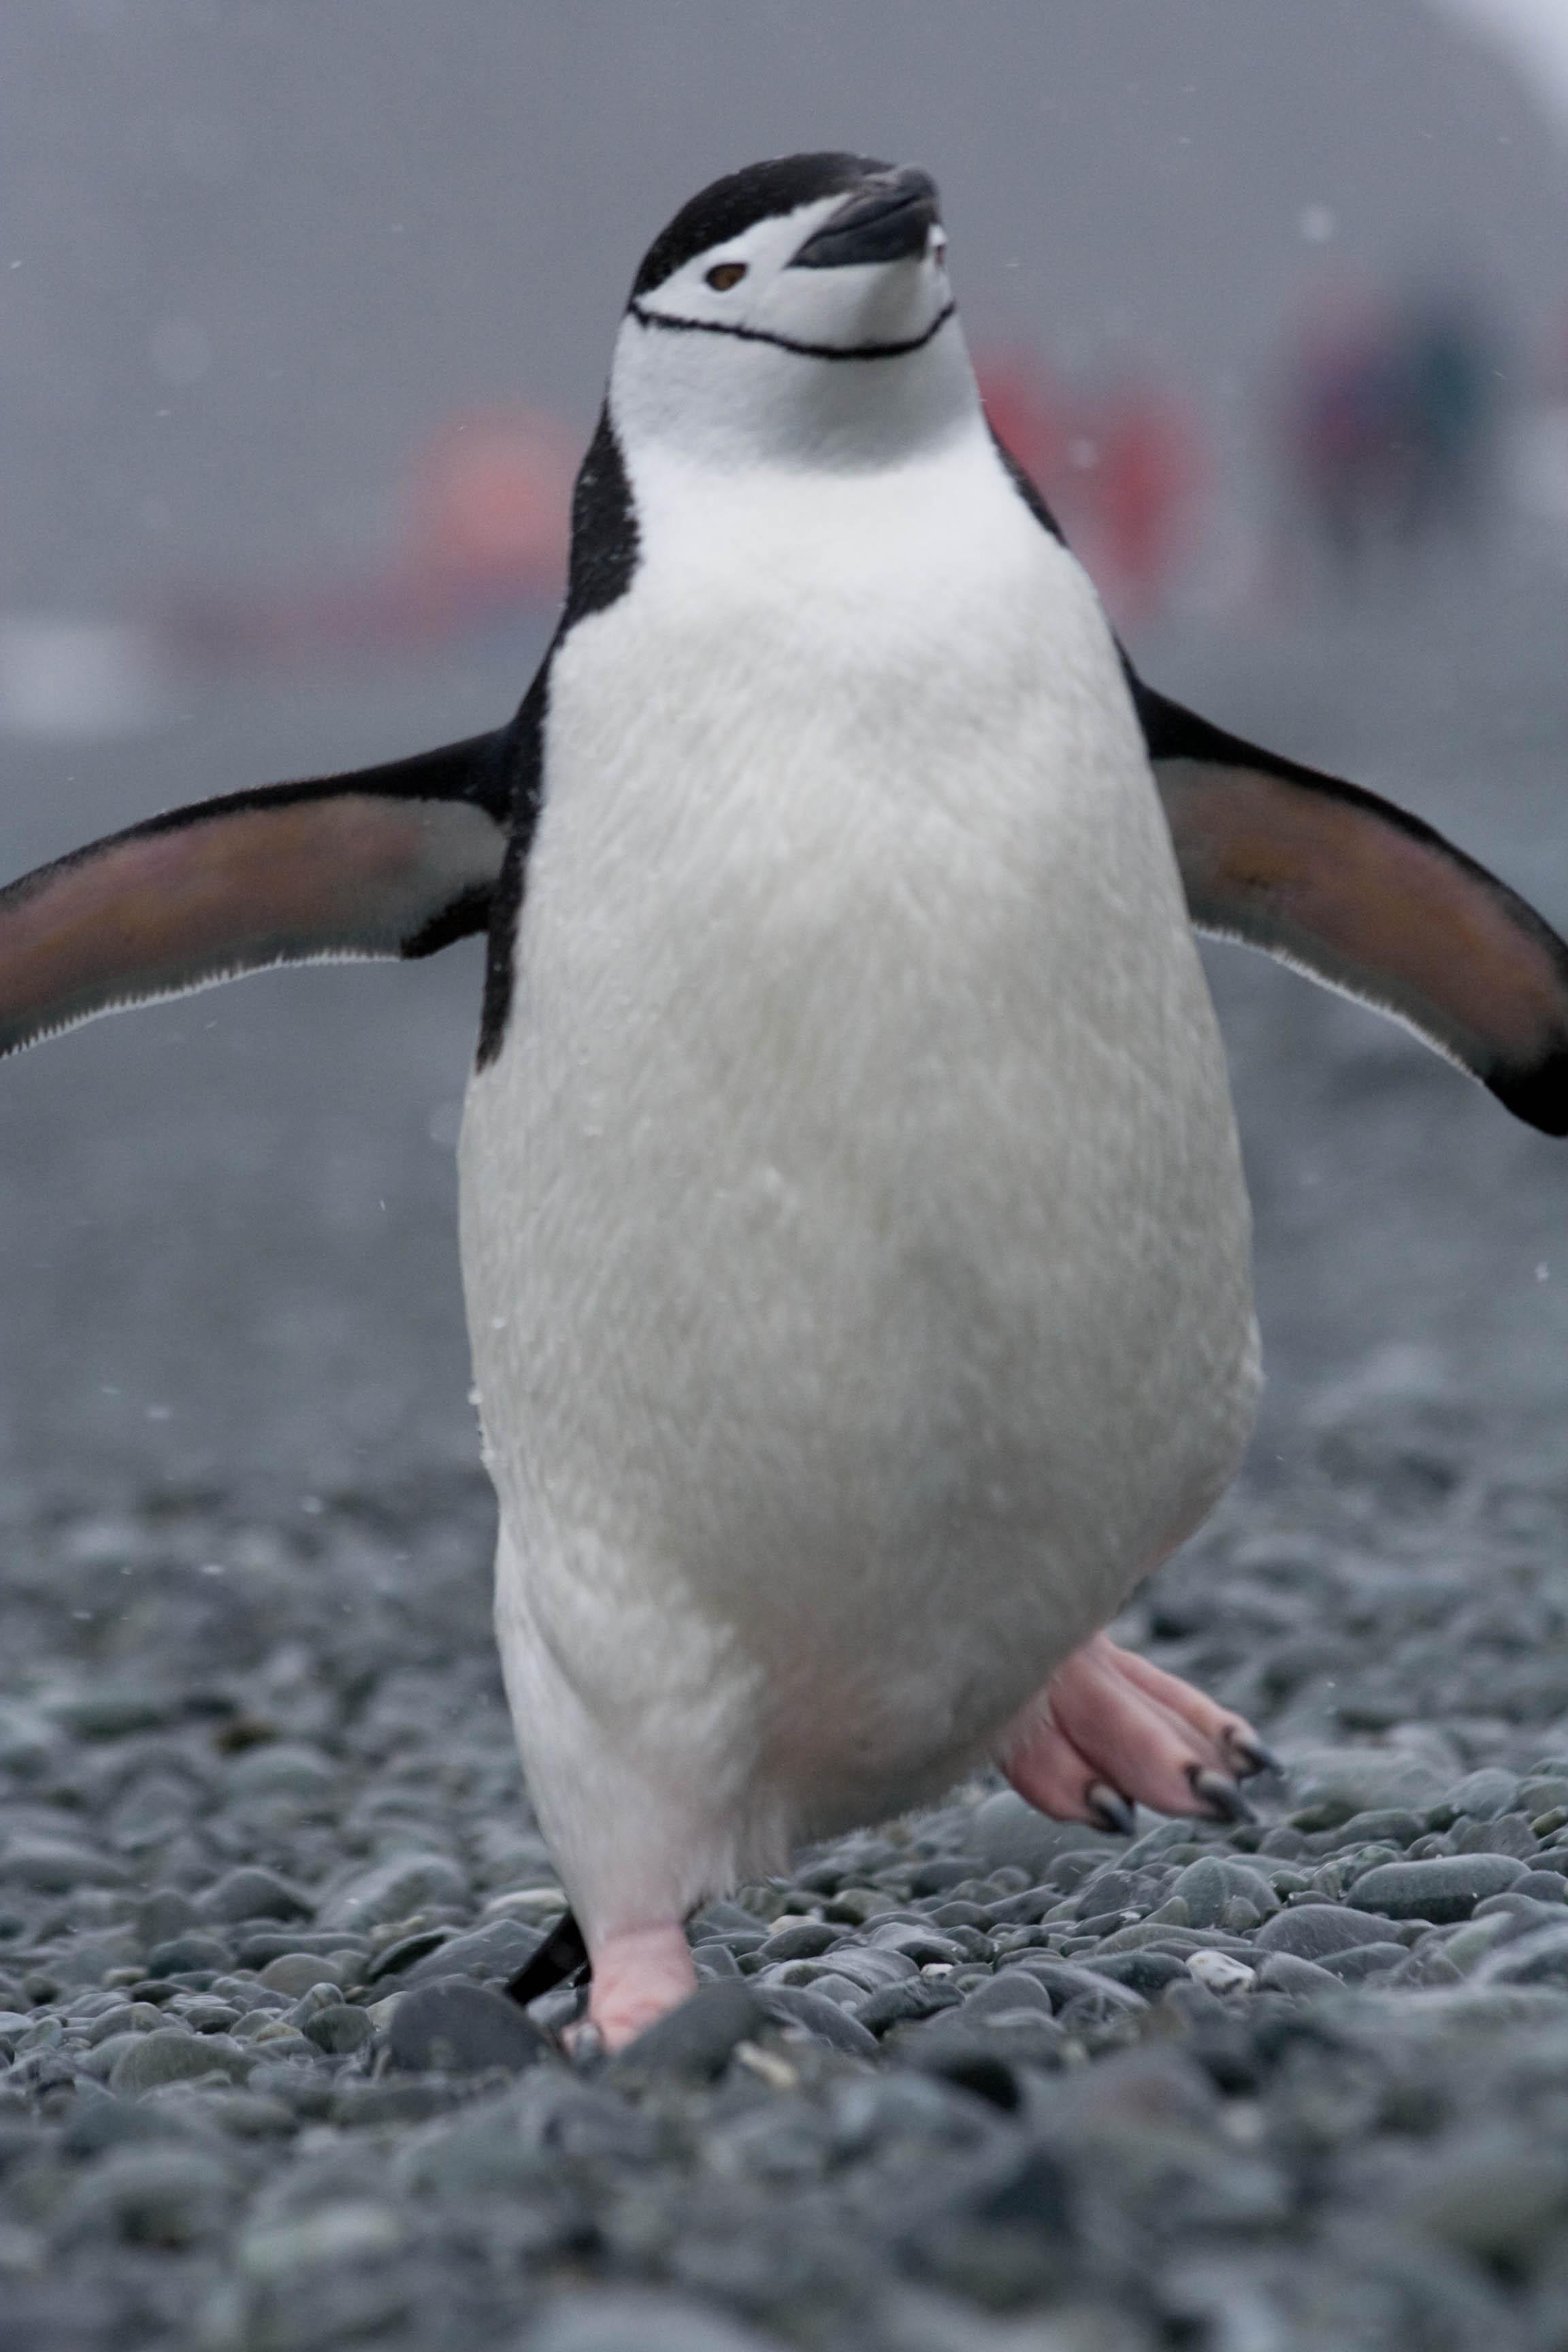chinstrap: (77, 103, 1568, 2002)
